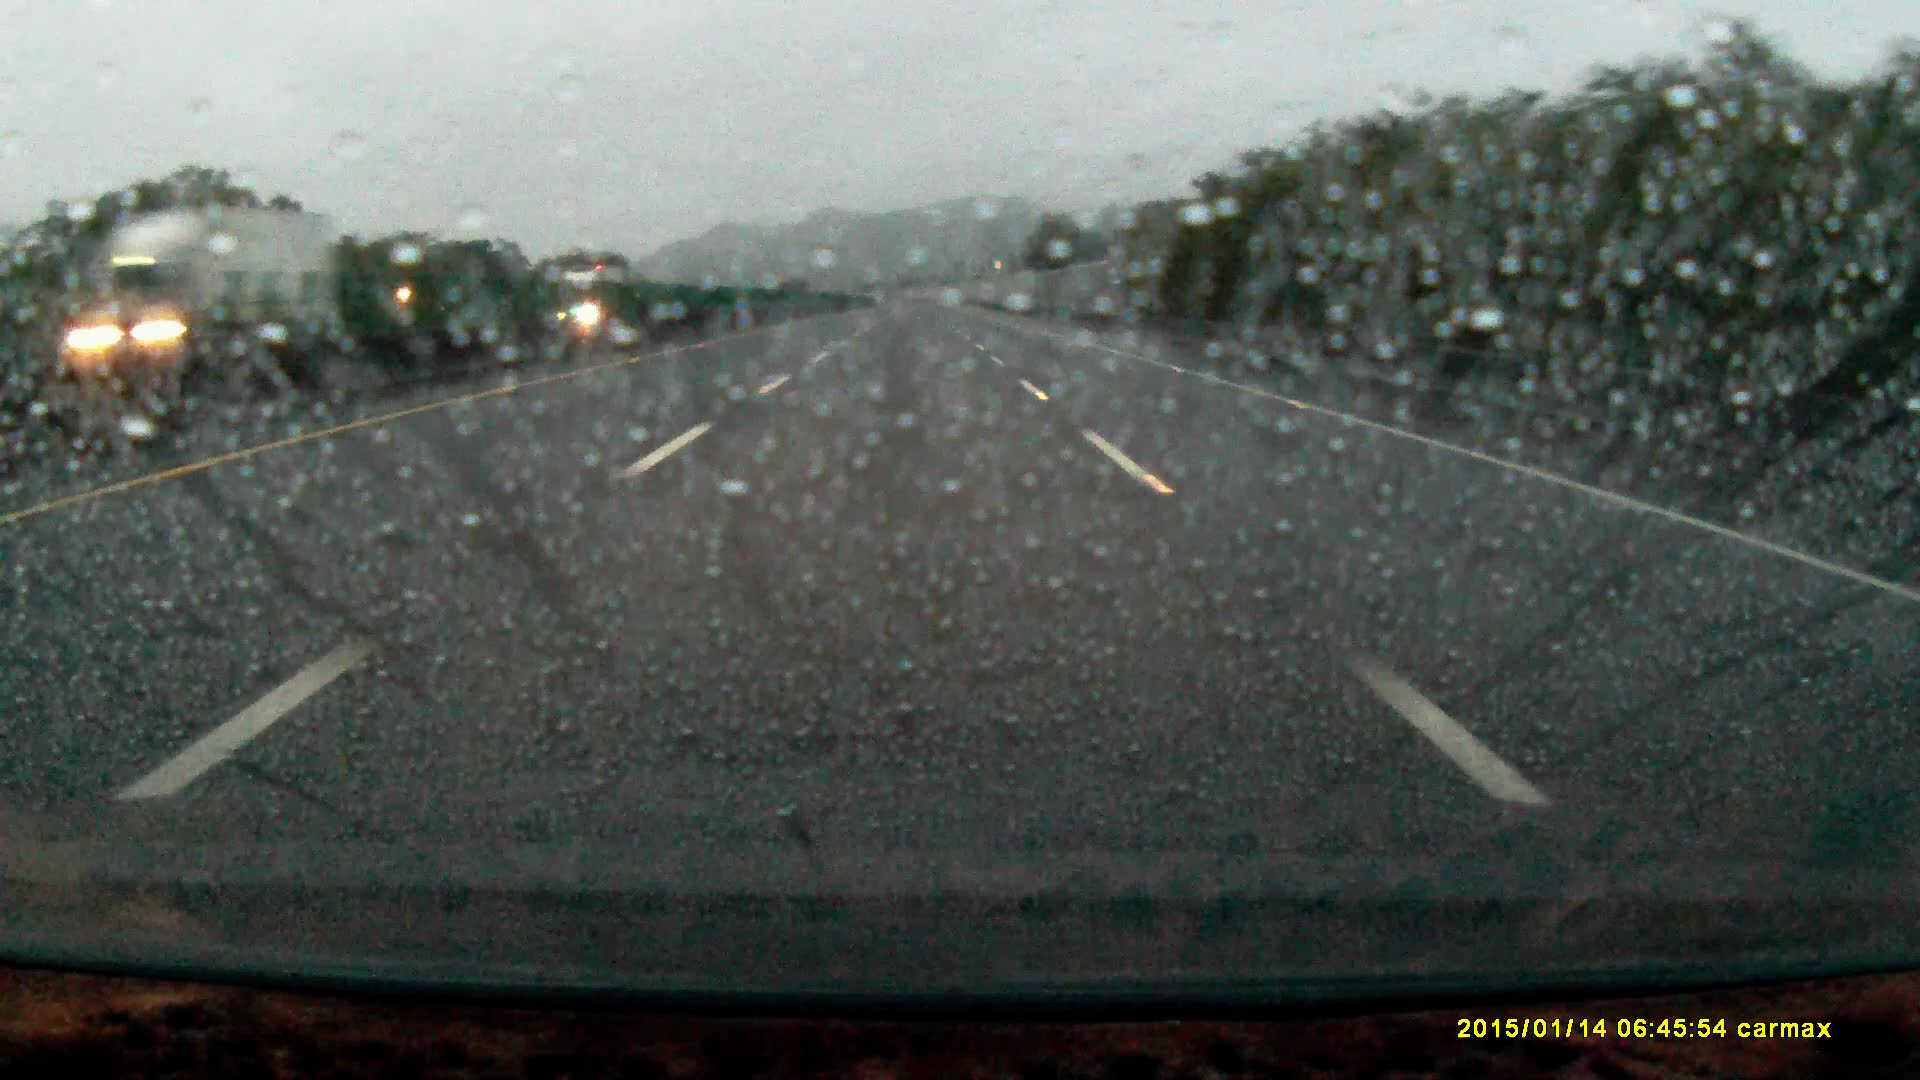vehicle: (74, 204, 322, 386), (558, 266, 628, 324)
